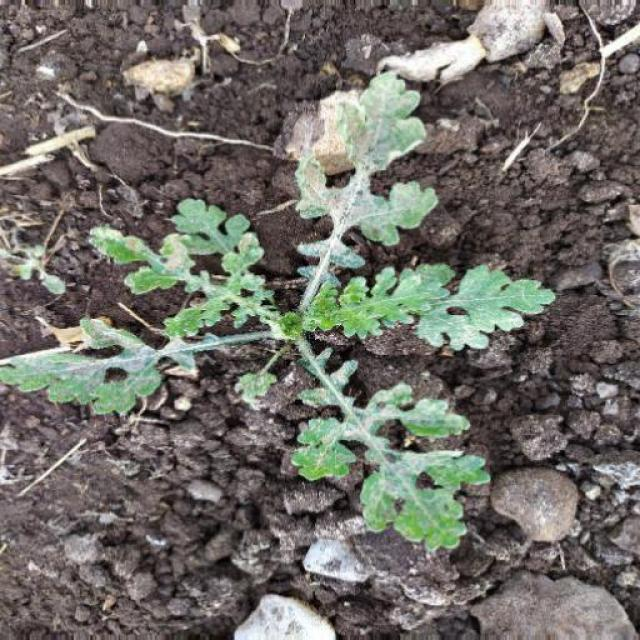weed: (10, 74, 562, 580)
